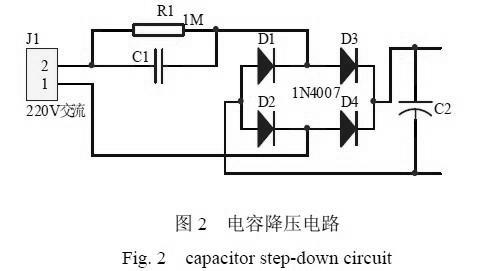cap1: (150, 46, 166, 86)
cap2: (395, 98, 435, 117)
diode: (254, 44, 279, 87), (254, 107, 279, 150), (336, 45, 360, 85), (338, 107, 360, 149)
res1: (129, 21, 188, 40)
